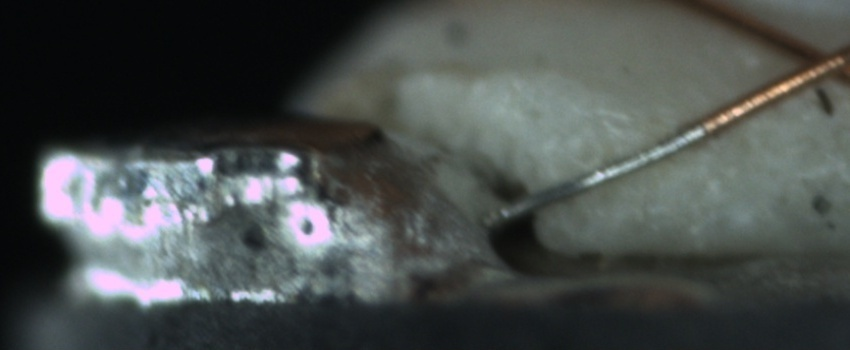CL: (770, 26, 848, 95)
TS: (488, 117, 704, 222)
